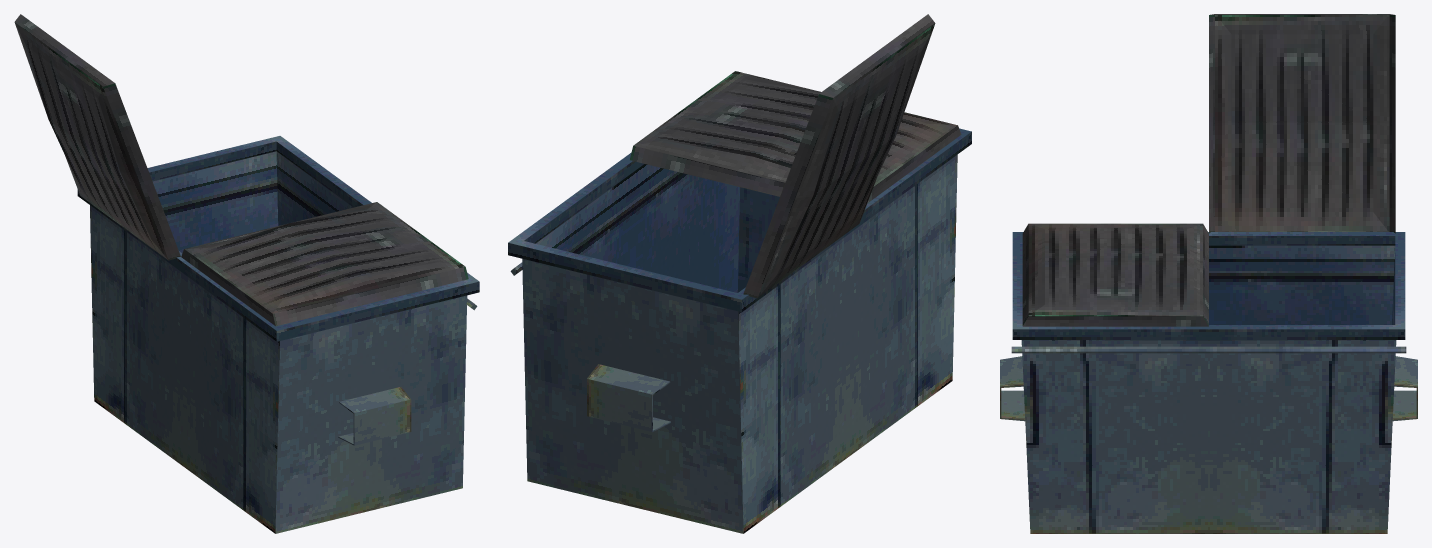
The model's file is dumpster_empty_lid_open_blue.glb.
The picture shows the model from 3 angles, left to right: view 1: azimuth 30°, elevation 25°; view 2: azimuth 150°, elevation 25°; view 3: azimuth 270°, elevation 25°; orthographic projection. The views are drawn at different scales.
Visible parts, largest first — view 1: dumpster_empty_lid_open_blue; view 2: dumpster_empty_lid_open_blue; view 3: dumpster_empty_lid_open_blue.
Boxes of the visible parts, x1,y1,x2,y2 form: dumpster_empty_lid_open_blue: [14, 14, 479, 533]; dumpster_empty_lid_open_blue: [508, 14, 971, 533]; dumpster_empty_lid_open_blue: [1000, 14, 1417, 533].
Size of the model in its own units: 2.74 by 3.84 by 3.67.
Materials: 1 (1 with a texture image).
